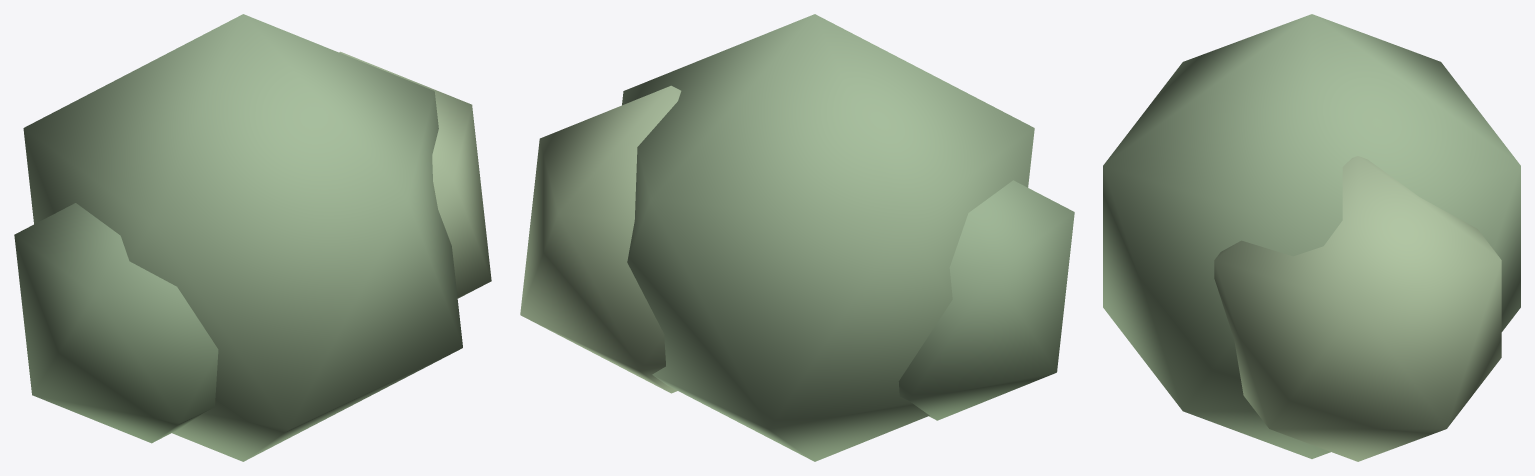
The model's file is bush.glb.
3 renders of one model, left to right at view 1: azimuth 30°, elevation 25°; view 2: azimuth 150°, elevation 25°; view 3: azimuth 270°, elevation 25°, orthographic.
Parts seen in each view (by area): view 1: Canopy; view 2: Canopy; view 3: Canopy.
Boxes of the visible parts, x1=… form: Canopy: x1=14, y1=14, x2=491, y2=461; Canopy: x1=520, y1=14, x2=1074, y2=461; Canopy: x1=1103, y1=14, x2=1520, y2=461.
Bounding box in the file's own units: 0.7157 × 0.64 × 0.5444.
